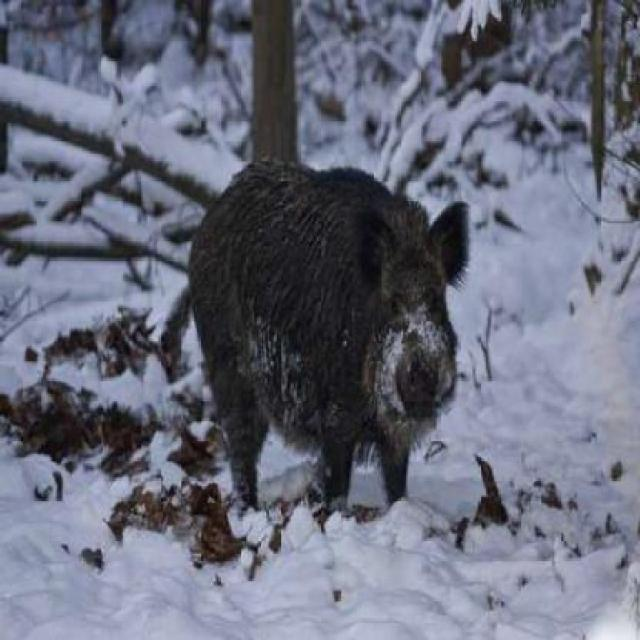Boar: (108, 112, 506, 571)
